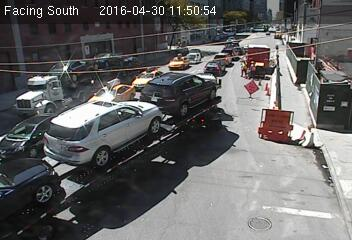neg: (68, 78, 149, 186), (151, 83, 187, 131), (17, 104, 41, 136), (23, 68, 44, 98), (189, 80, 209, 107), (44, 74, 60, 95), (113, 49, 127, 67), (86, 51, 98, 68)
pos: (233, 57, 250, 79), (248, 61, 262, 80)
